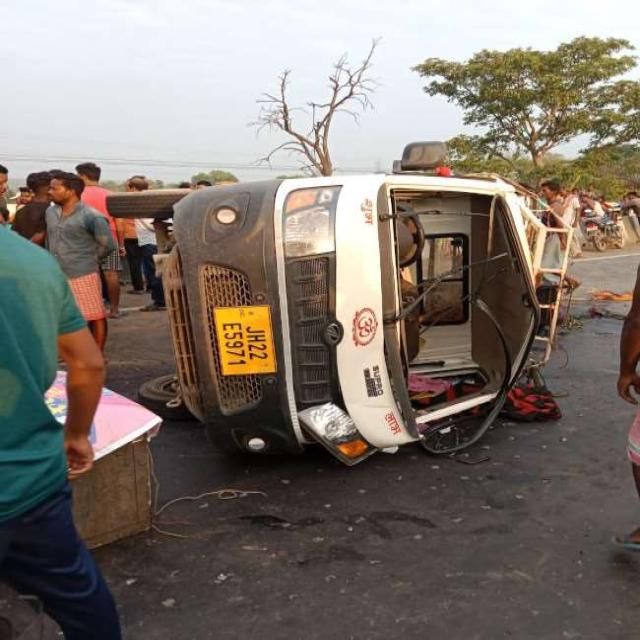accident: (108, 141, 572, 464)
